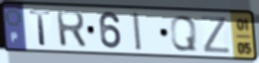6: (98, 11, 123, 51)
I: (131, 10, 144, 53)
Q: (169, 14, 199, 53)
R: (54, 10, 89, 50)
T: (28, 9, 53, 47)
Z: (199, 14, 233, 55)
